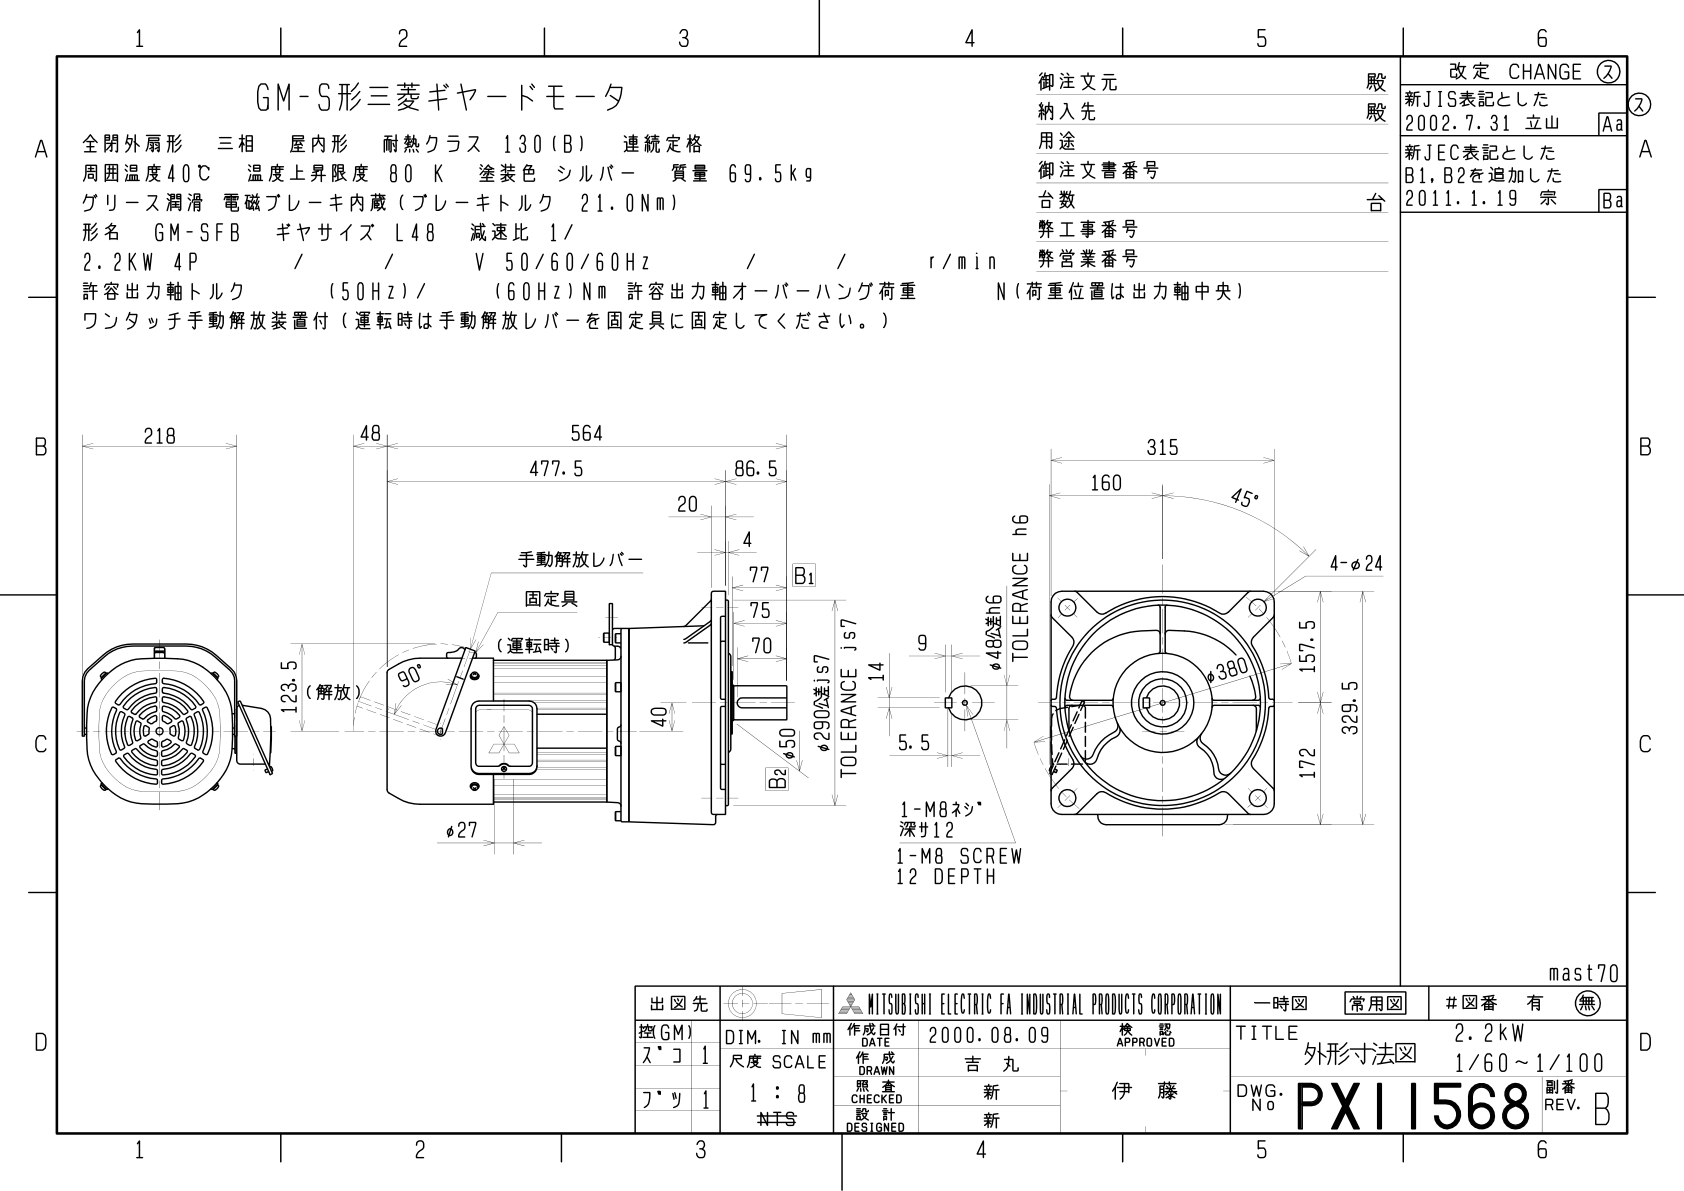GM_S_手動ブレーキ＿三相_フランジ: (3, 3, 1679, 1191)
